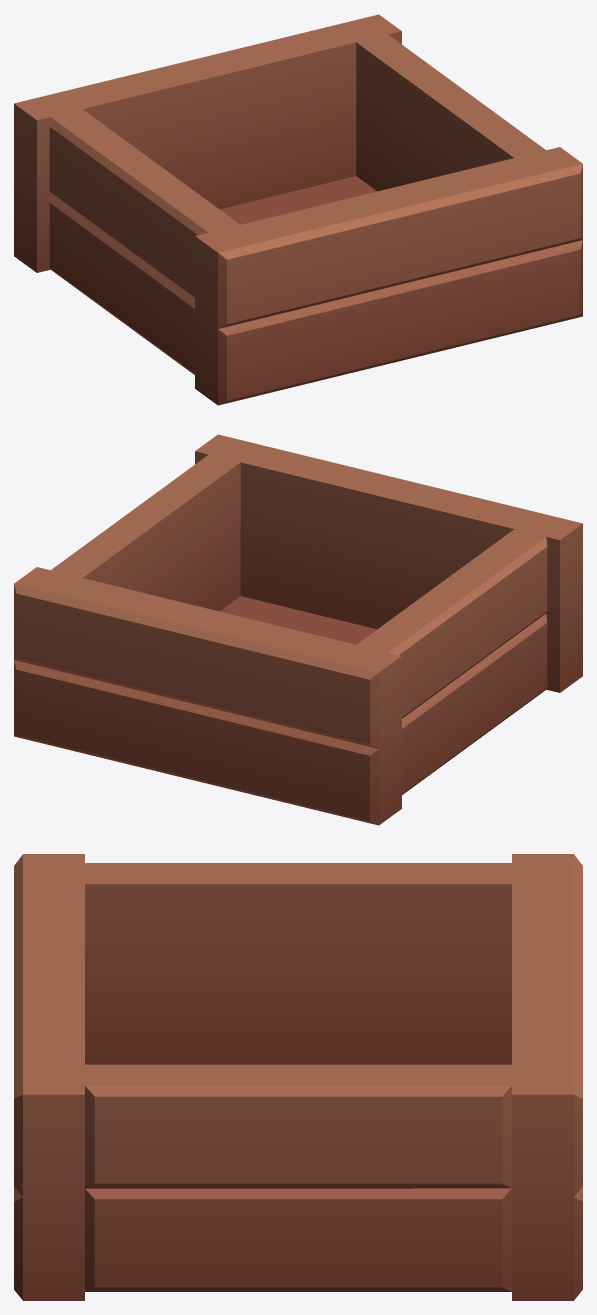
Rendered from crate.glb.
The picture shows the model from 3 angles, top to bottom: view 1: azimuth 30°, elevation 25°; view 2: azimuth 150°, elevation 25°; view 3: azimuth 270°, elevation 25°; orthographic projection. The views are drawn at different scales.
Parts seen in each view (by area): view 1: crate; view 2: crate; view 3: crate.
Part boxes in pixels (x1=…): crate: x1=14, y1=14, x2=582, y2=405; crate: x1=14, y1=434, x2=582, y2=825; crate: x1=14, y1=854, x2=582, y2=1300.
Size of the model in its own units: 2 by 0.7999 by 2.
Materials: 1 (1 with a texture image).
